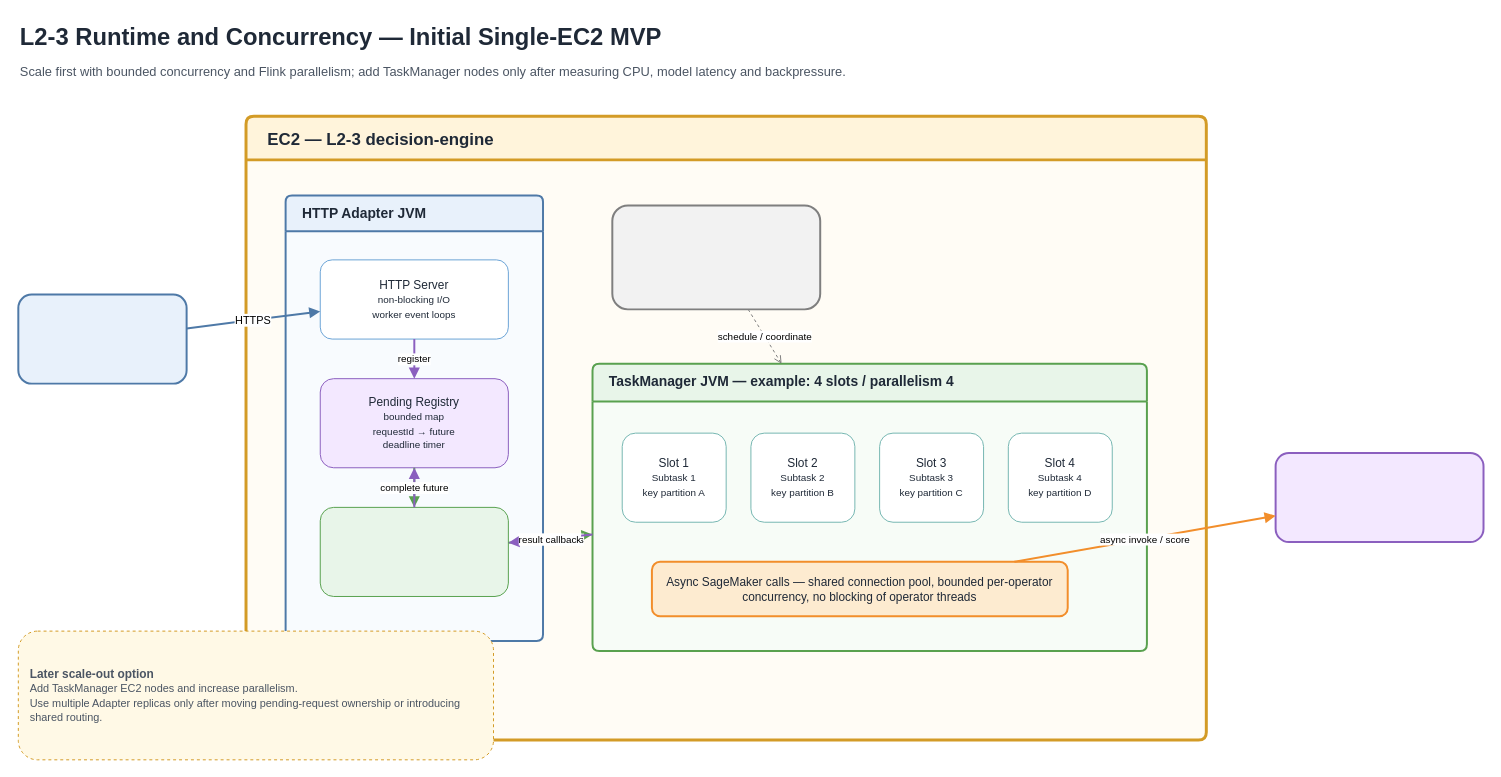
Some shapes in this 1501 by 777 pixel diagram are drawn without their labels. The centre of each missing label's shape, as x and y in pixels:
Adapter–Flink Bridge bounded ingress queue result callback overload rejection: (x=413, y=551)
JobManager JVM Job scheduling Checkpoint coordination Failure recovery: (x=716, y=257)
L2-1 risk-score Concurrent HTTP requests: (x=102, y=338)
SageMaker Endpoint Warm XGBoost instance(s): (x=1379, y=497)
